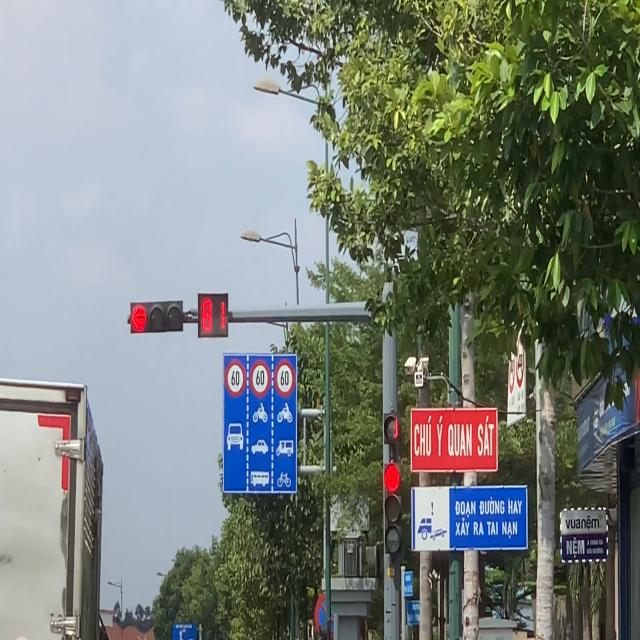Toc do toi da: (274, 358, 296, 398), (223, 359, 246, 397), (249, 359, 271, 398)
